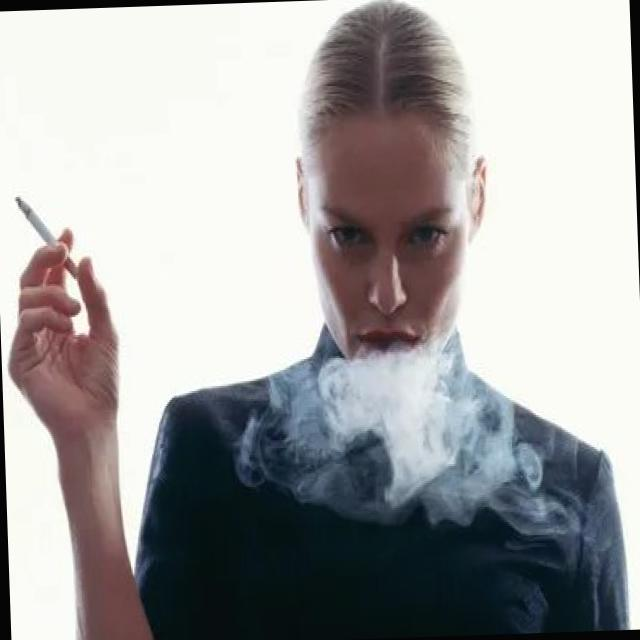smoke: (12, 192, 88, 284)
